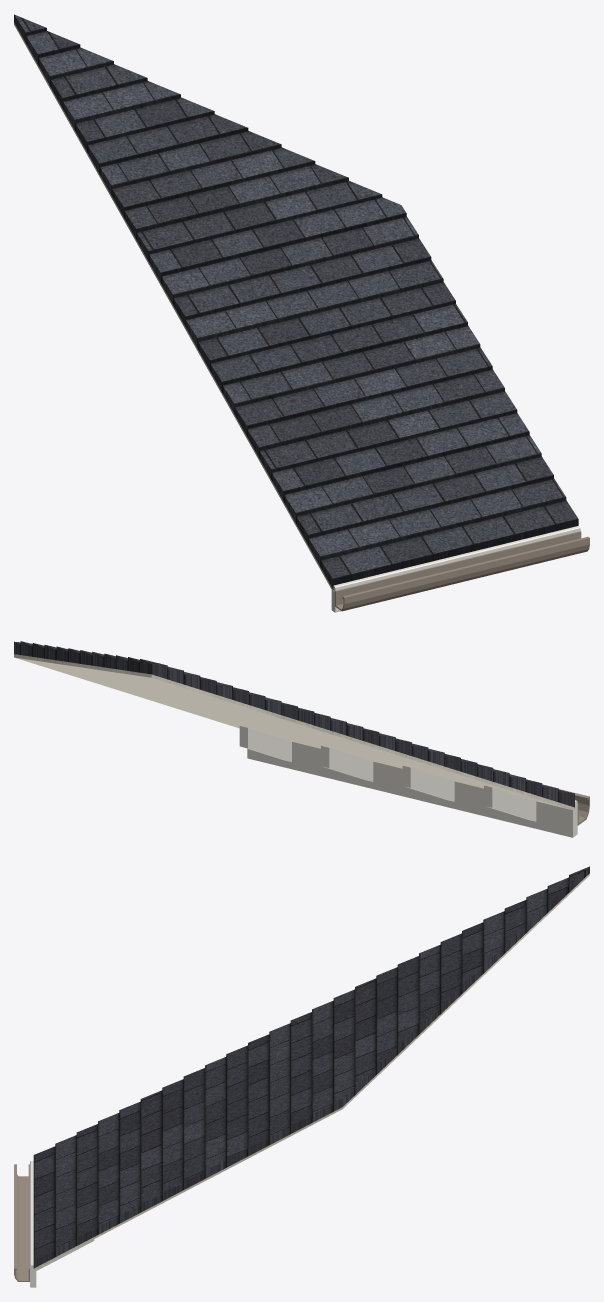
File: roof_hip_3.glb
3 views of the same model, one above another, from view 1: azimuth 30°, elevation 25°; view 2: azimuth 150°, elevation 25°; view 3: azimuth 270°, elevation 25° (orthographic). The views are drawn at different scales.
Parts seen in each view (by area): view 1: roof_hip_3_shingles, roof_hip_3_gutter, roof_hip_3_trim, roof_hip_3_plaster; view 2: roof_hip_3_trim, roof_hip_3_plaster, roof_hip_3_shingles, roof_hip_3_gutter; view 3: roof_hip_3_shingles, roof_hip_3_gutter, roof_hip_3_plaster, roof_hip_3_trim.
Boxes of the visible parts, x1,y1,x2,y2 form: roof_hip_3_shingles: [14, 14, 578, 589]; roof_hip_3_gutter: [335, 531, 589, 611]; roof_hip_3_trim: [331, 526, 580, 612]; roof_hip_3_plaster: [14, 22, 333, 591]; roof_hip_3_trim: [239, 726, 577, 837]; roof_hip_3_plaster: [14, 654, 574, 810]; roof_hip_3_shingles: [14, 641, 574, 807]; roof_hip_3_gutter: [558, 789, 589, 825]; roof_hip_3_shingles: [33, 866, 589, 1268]; roof_hip_3_gutter: [14, 1164, 29, 1281]; roof_hip_3_plaster: [33, 873, 589, 1270]; roof_hip_3_trim: [30, 1161, 94, 1287].
Bounding box in the file's own units: 2 × 2.83 × 4.66.
4 materials, 2 textured.
